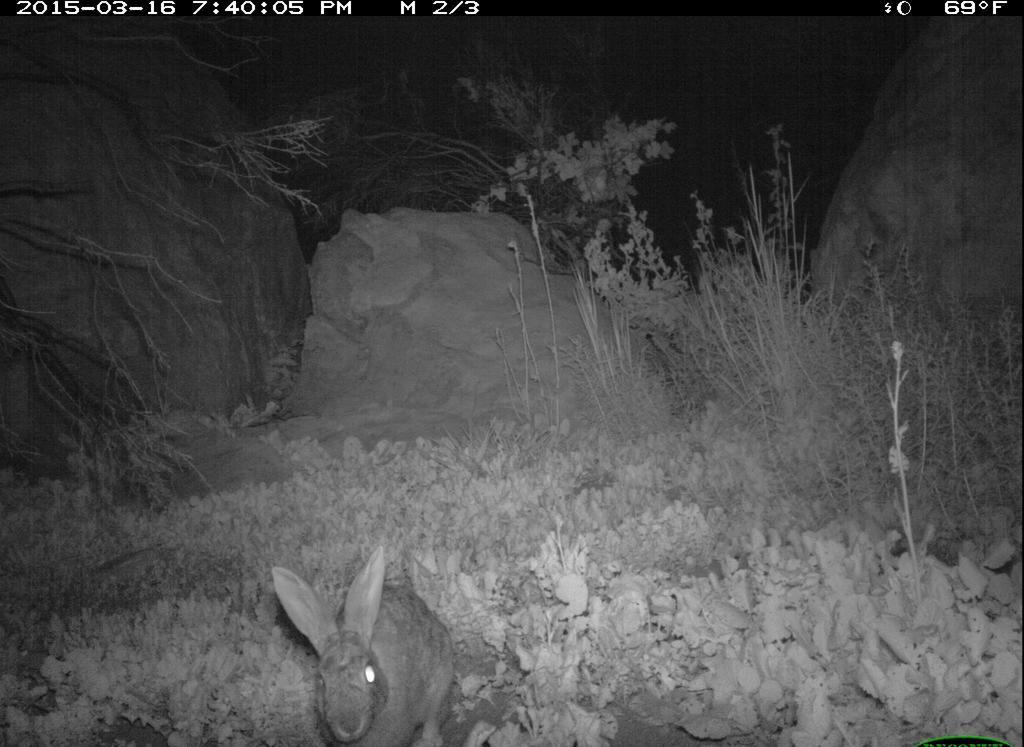rabbit: (267, 547, 465, 747)
